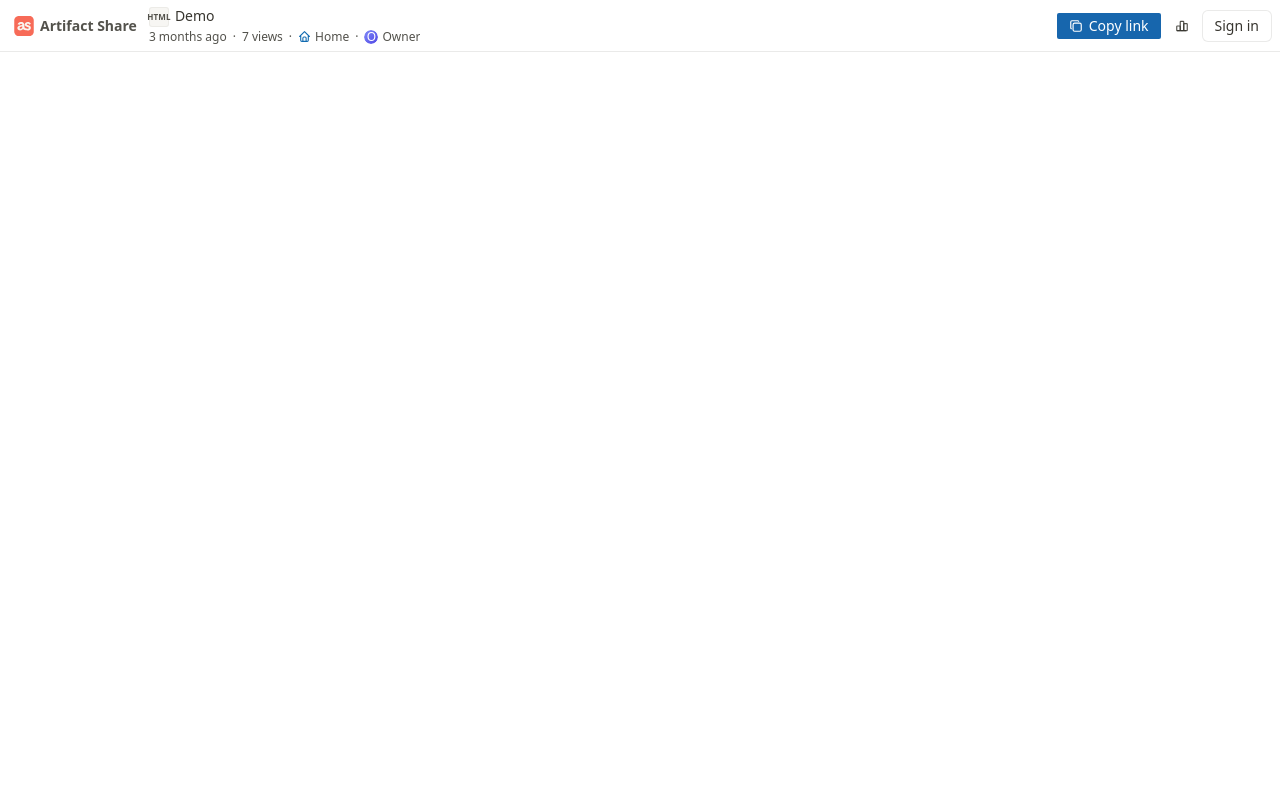
sharing recovery browser behavior › does not expose sharing settings to an anonymous caller
Step 1. Click the button with aria-label "Copy link" → (1109, 26), box 1056,12 -> 1162,40
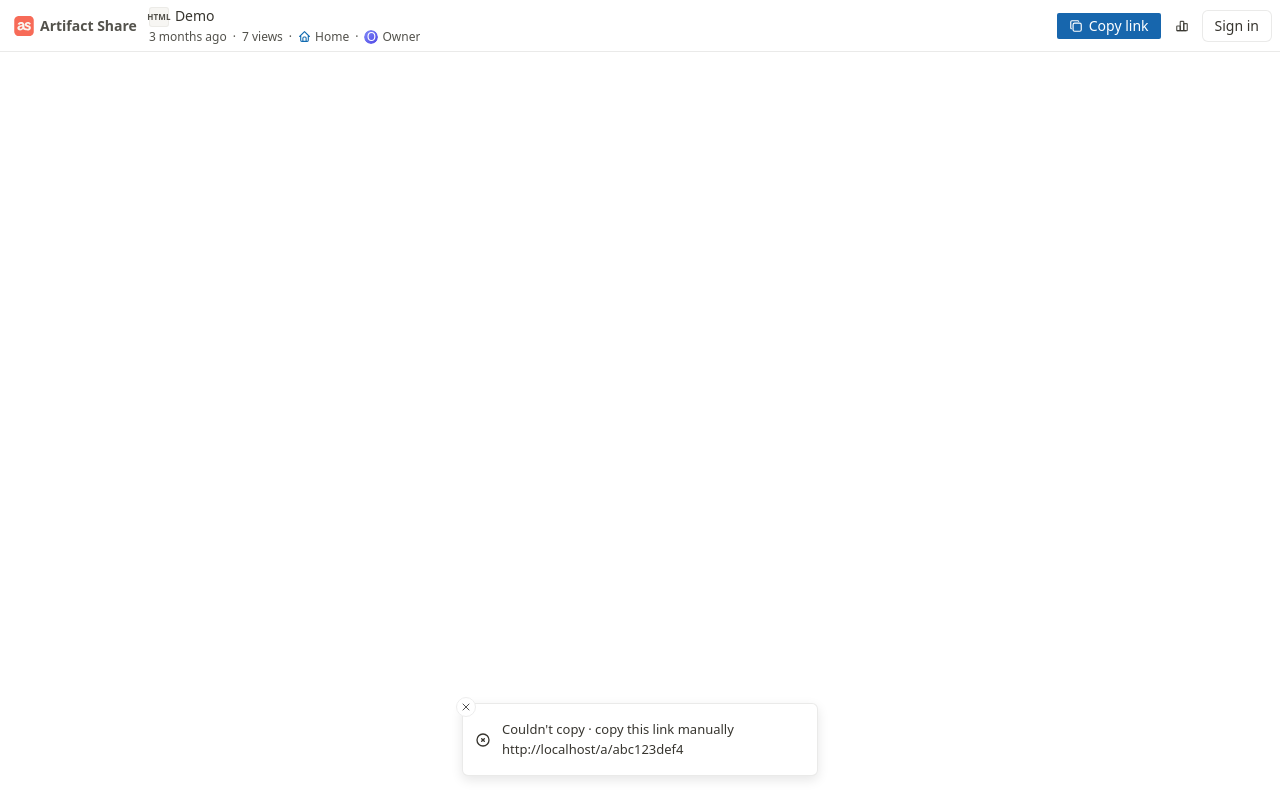
Result: the list item is shown at 462,703 -> 818,776
